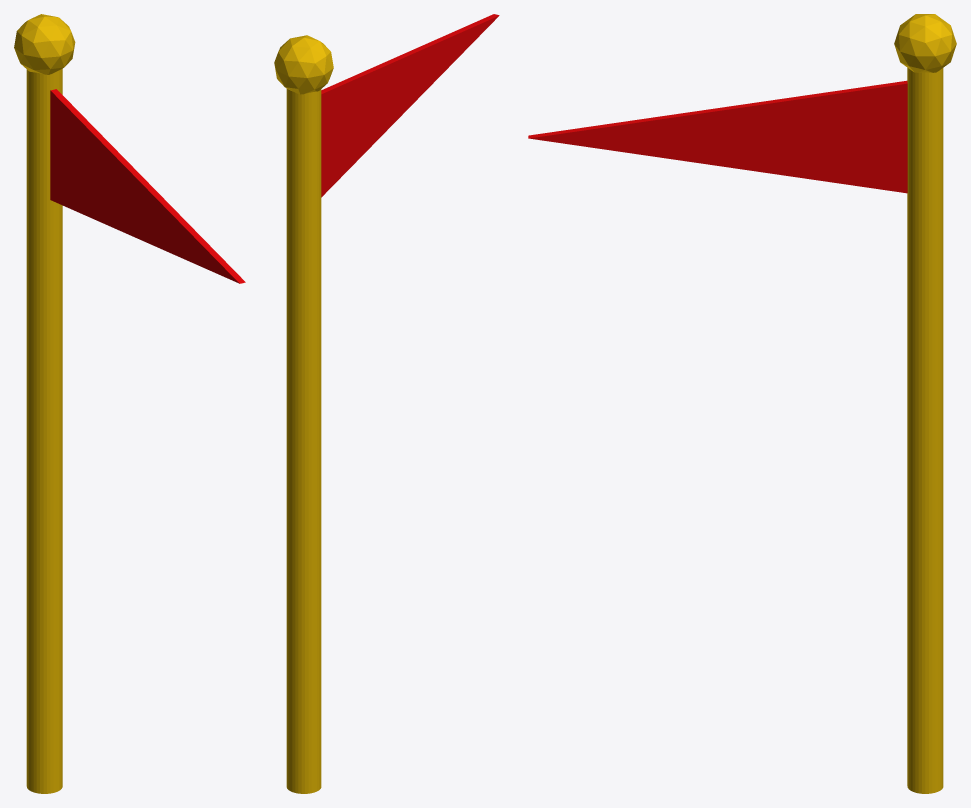
File: Flag01.fbx
3 renders of one model, left to right at view 1: azimuth 30°, elevation 25°; view 2: azimuth 150°, elevation 25°; view 3: azimuth 270°, elevation 25°, orthographic. The views are drawn at different scales.
Visible parts, largest first — view 1: Cylinder; view 2: Cylinder; view 3: Cylinder.
Part boxes in pixels (x1=…): Cylinder: x1=14, y1=14, x2=245, y2=793; Cylinder: x1=274, y1=14, x2=499, y2=793; Cylinder: x1=528, y1=14, x2=956, y2=793.
Bounding box in the file's own units: 17.64 × 251 × 127.
